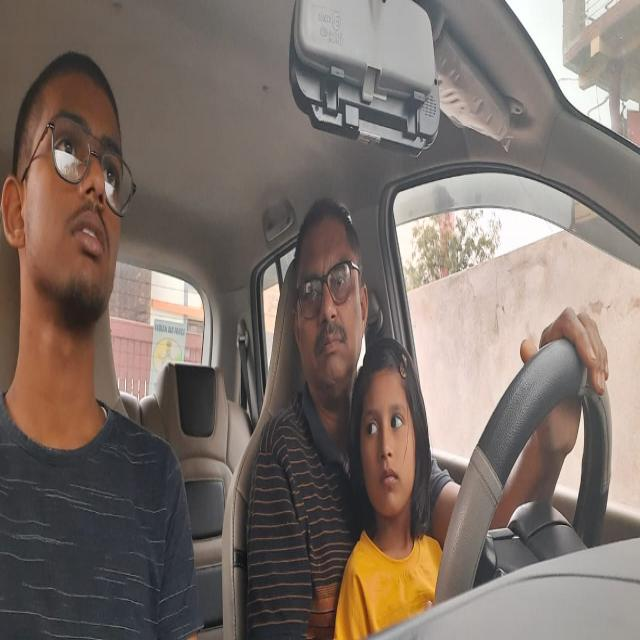LeftRight: (292, 195, 366, 388)
child: (350, 341, 427, 525)
person: (2, 48, 131, 344)
